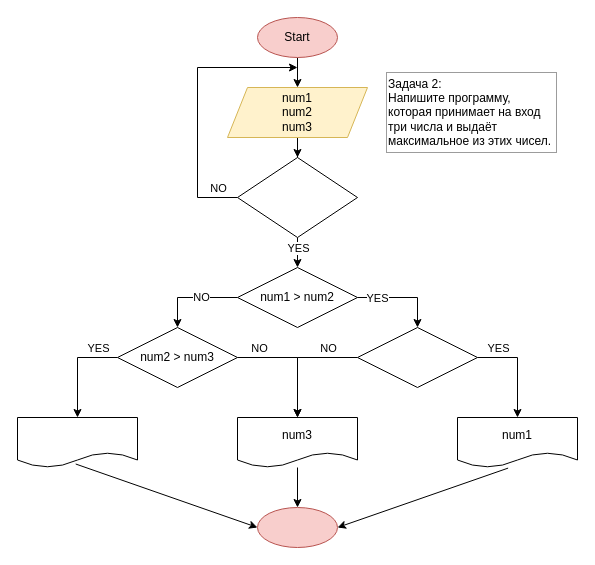
Some shapes in this 595 by 565 pixel diagram are drawn without their labels. The shapes that lost their labels are listed below. From the top down, each one's centre as x and y in pixels, then its label:
the point at 297,197: num1,num2, num3 - числа?
the point at 417,357: num1 > num3
the point at 77,442: num2
the point at 297,527: End
